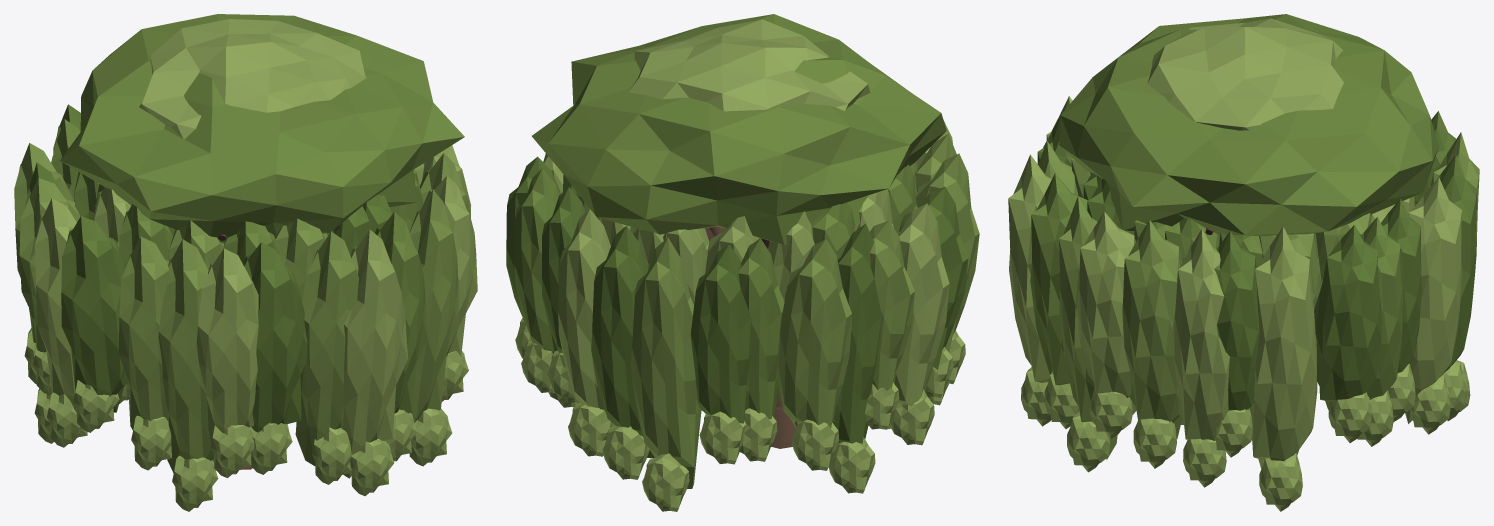
Rendered from tree-willow-0.obj.
The picture shows the model from 3 angles, left to right: view 1: azimuth 30°, elevation 25°; view 2: azimuth 150°, elevation 25°; view 3: azimuth 270°, elevation 25°; orthographic projection.
Visible parts, largest first — view 1: part1; view 2: part1; view 3: part1.
Part boxes in pixels (<box>): part1: <box>14,14,477,511</box>; part1: <box>506,14,979,511</box>; part1: <box>1008,14,1479,511</box>.
Bounding box in the file's own units: 6.66 × 6.25 × 6.7.
